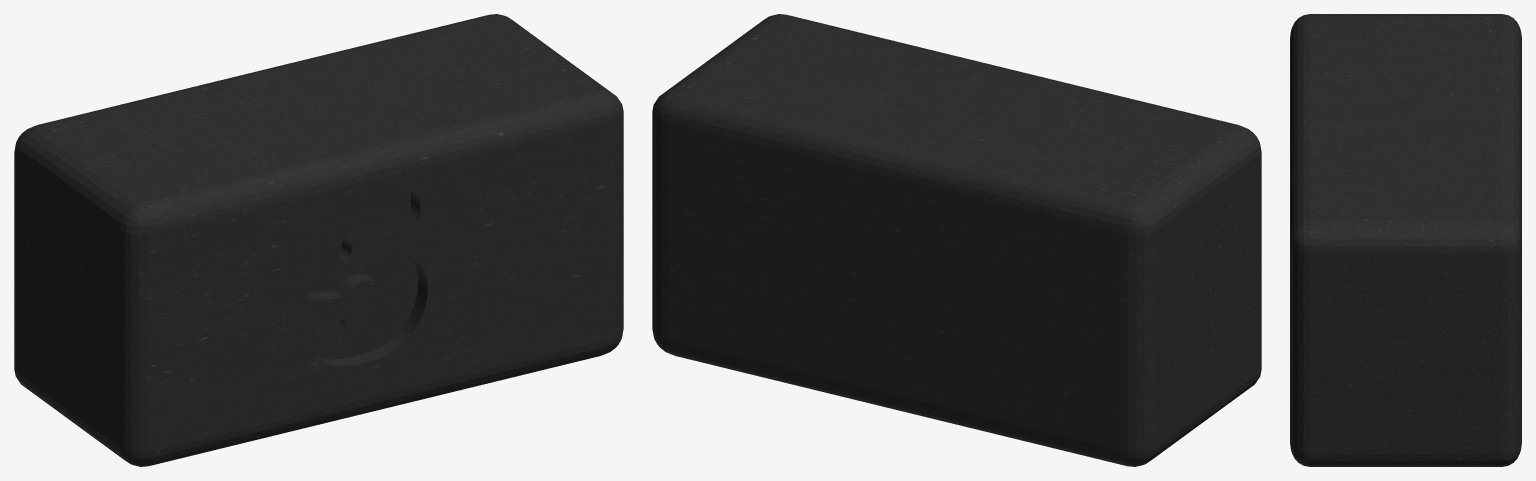
The model's file is btn_5.glb.
3 renders of one model, left to right at view 1: azimuth 30°, elevation 25°; view 2: azimuth 150°, elevation 25°; view 3: azimuth 270°, elevation 25°, orthographic. The views are drawn at different scales.
Parts seen in each view (by area): view 1: Cube.005; view 2: Cube.005; view 3: Cube.005.
Part boxes in pixels (left/top/right/bottom): Cube.005: left=14, top=14, right=623, bottom=466; Cube.005: left=652, top=14, right=1261, bottom=466; Cube.005: left=1290, top=14, right=1521, bottom=466.
Size of the model in its own units: 3.42 by 1.71 by 1.48.
2 materials, 2 textured.
